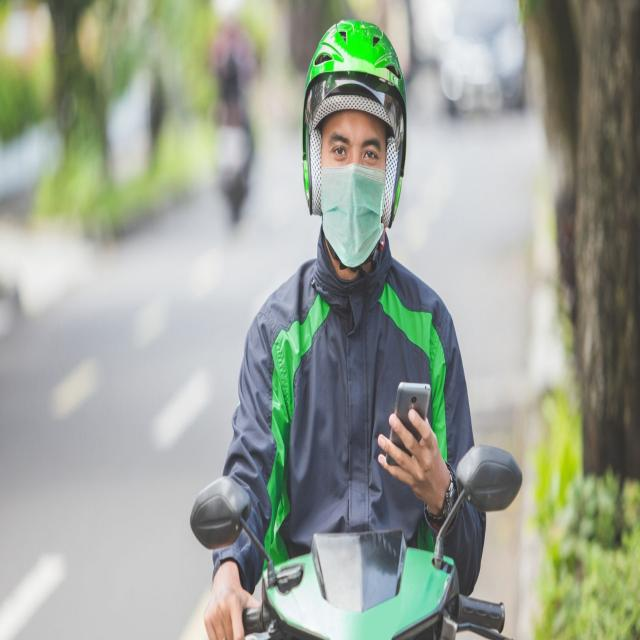Helm: (300, 20, 414, 272)
